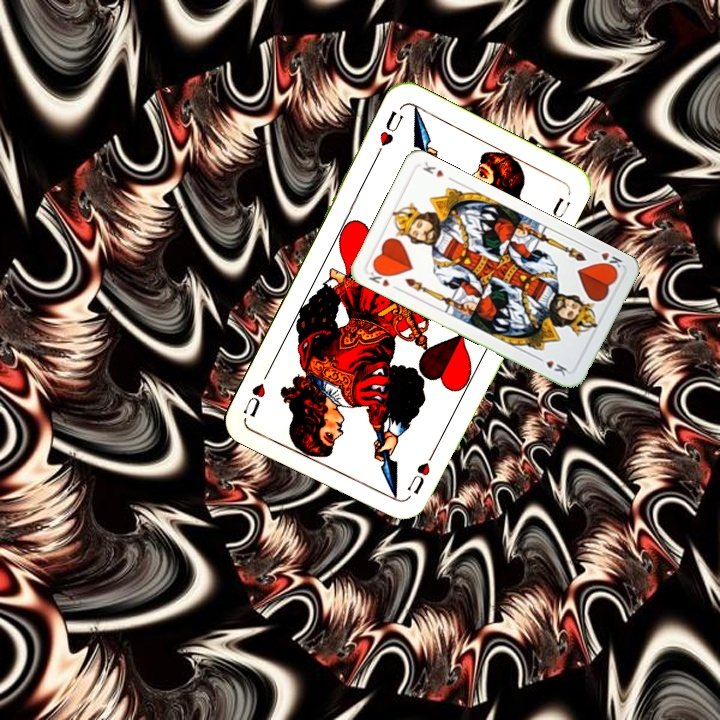HK: (587, 244, 625, 274), (364, 265, 402, 293)
HU: (372, 106, 406, 159), (403, 458, 433, 497)
